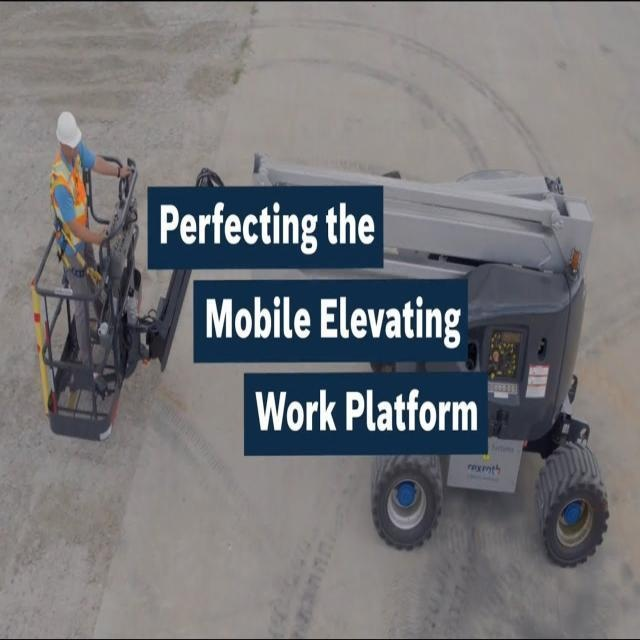Arnes_seguridad: (51, 150, 98, 278)
